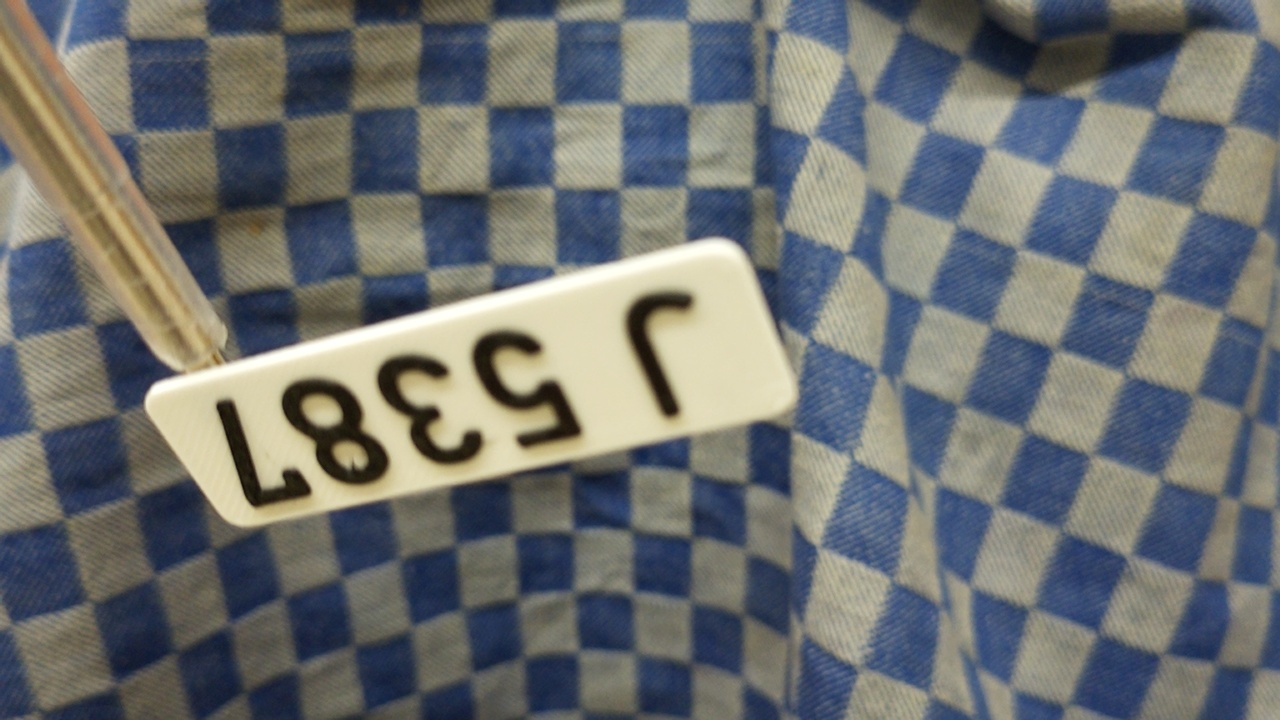license_plate: (140, 232, 801, 531)
